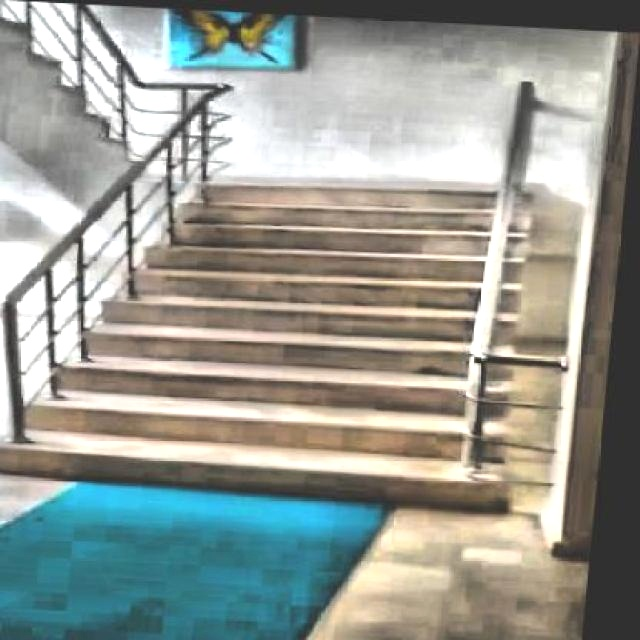stair: (4, 166, 542, 497)
